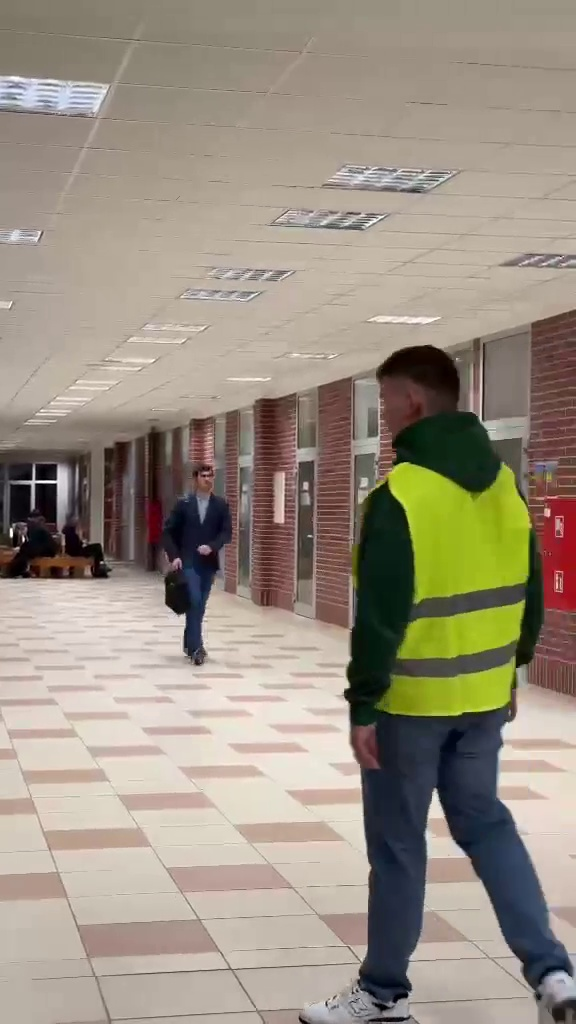no vest: (162, 461, 229, 662)
vest: (333, 342, 576, 1021)
